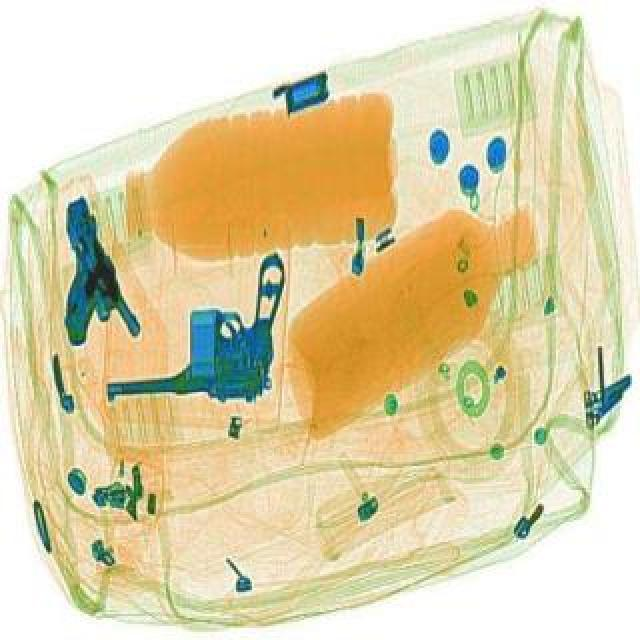gun: (98, 234, 290, 412), (0, 190, 168, 362)
